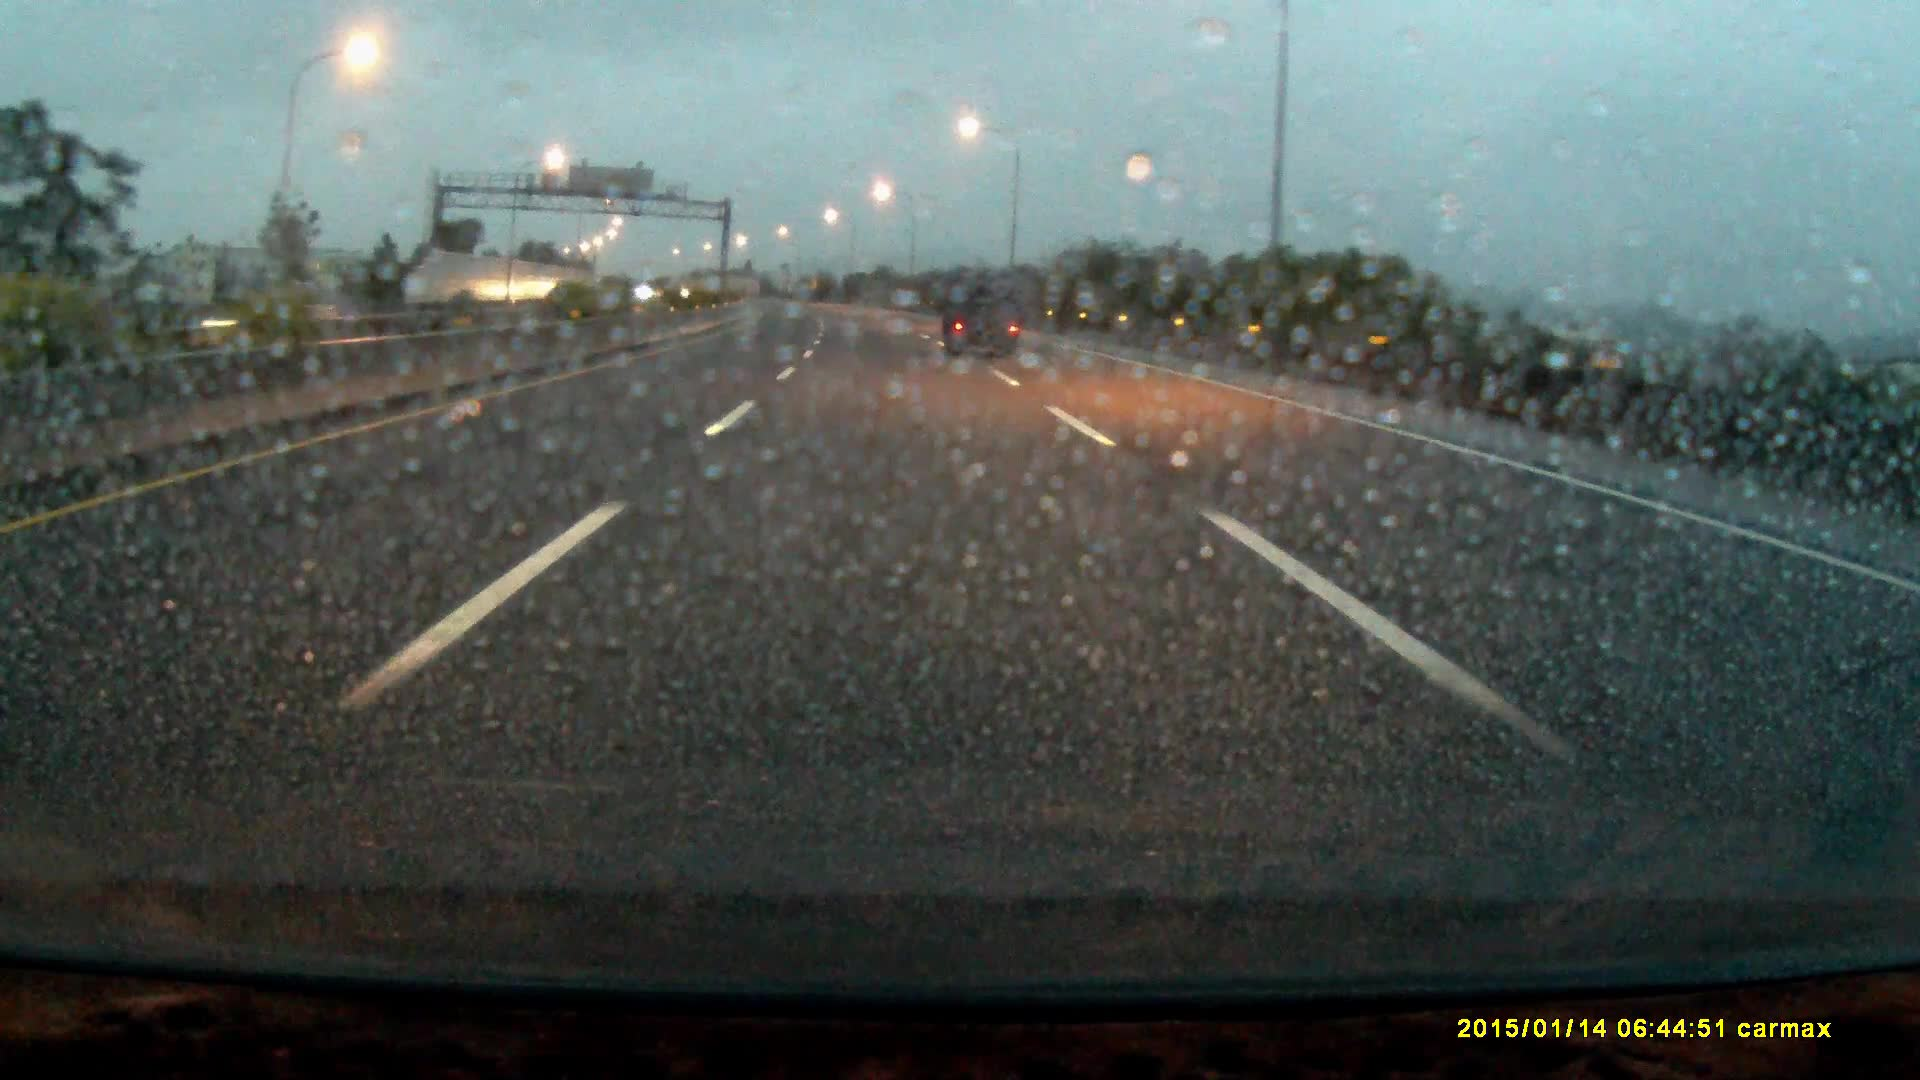vehicle: (940, 272, 1025, 359)
